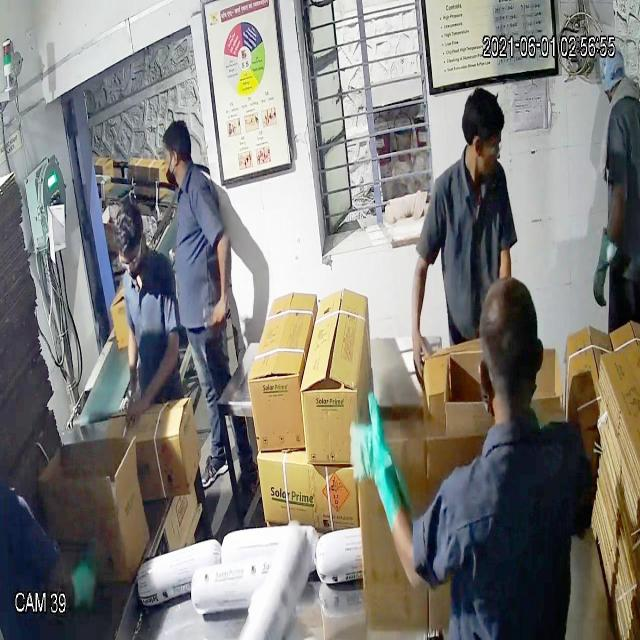glasses: (113, 234, 153, 278)
